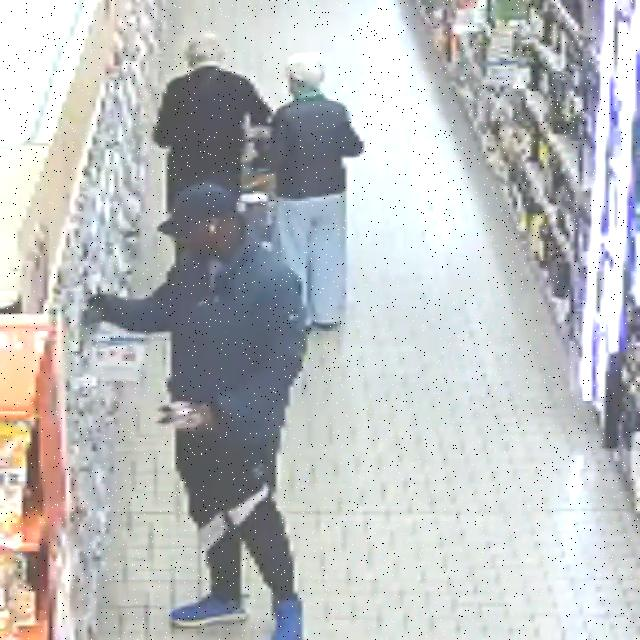article: (157, 412, 201, 429), (160, 401, 196, 412)
hands: (191, 403, 216, 432), (79, 304, 102, 324)
person: (88, 184, 306, 639), (270, 55, 363, 328), (153, 34, 271, 211)
